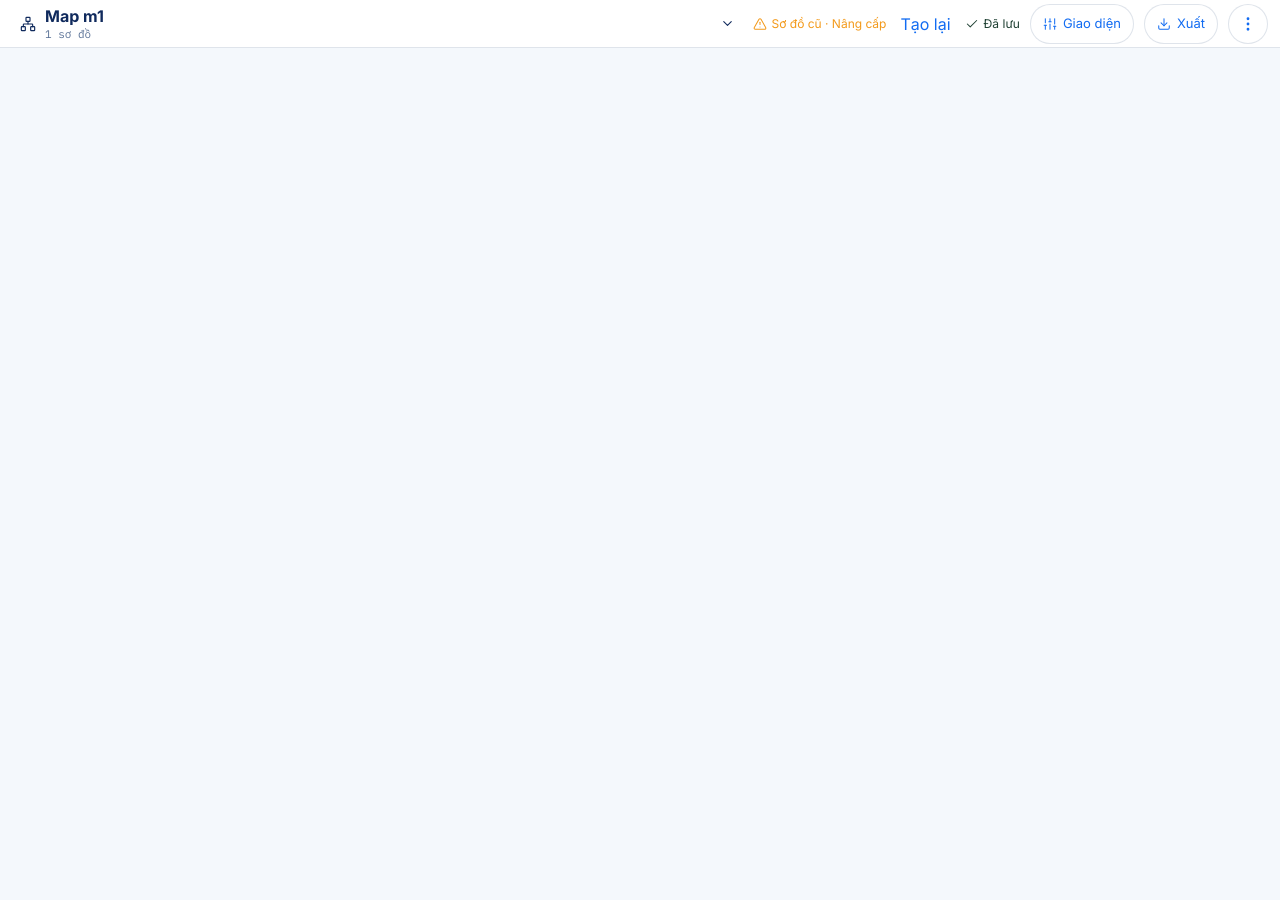
Export Studio — PDF orientation control reflects the real auto-orientation contract › switching map -> outline -> map never loses the orientation value chosen while in outline mode
Click the button with aria-label "Xuất sơ đồ": click(1181, 24) [1144,4,1218,44]
(page scrolled)
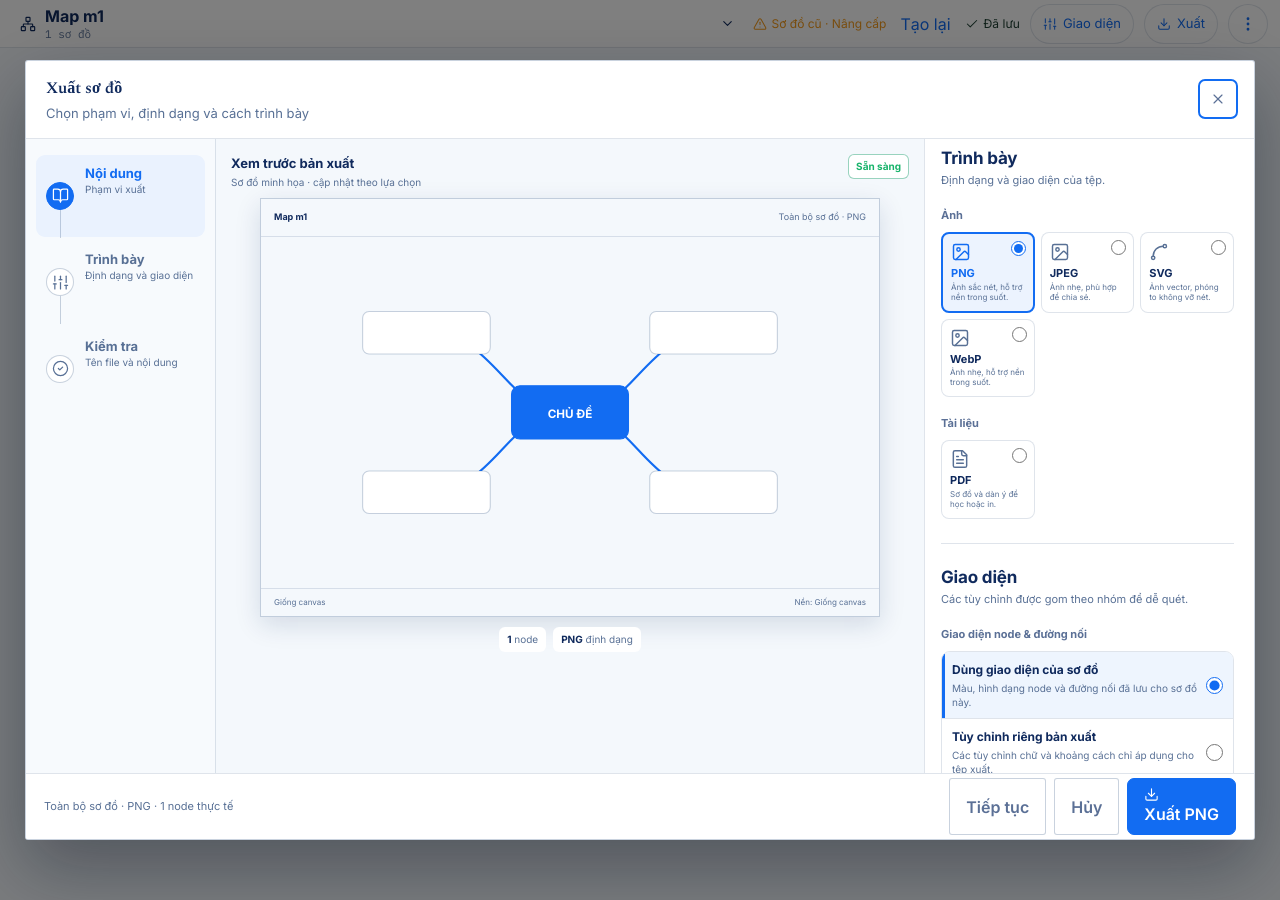
Click the radio button named "mm-export-format": click(1019, 456) [1012,448,1027,463]
(page scrolled)
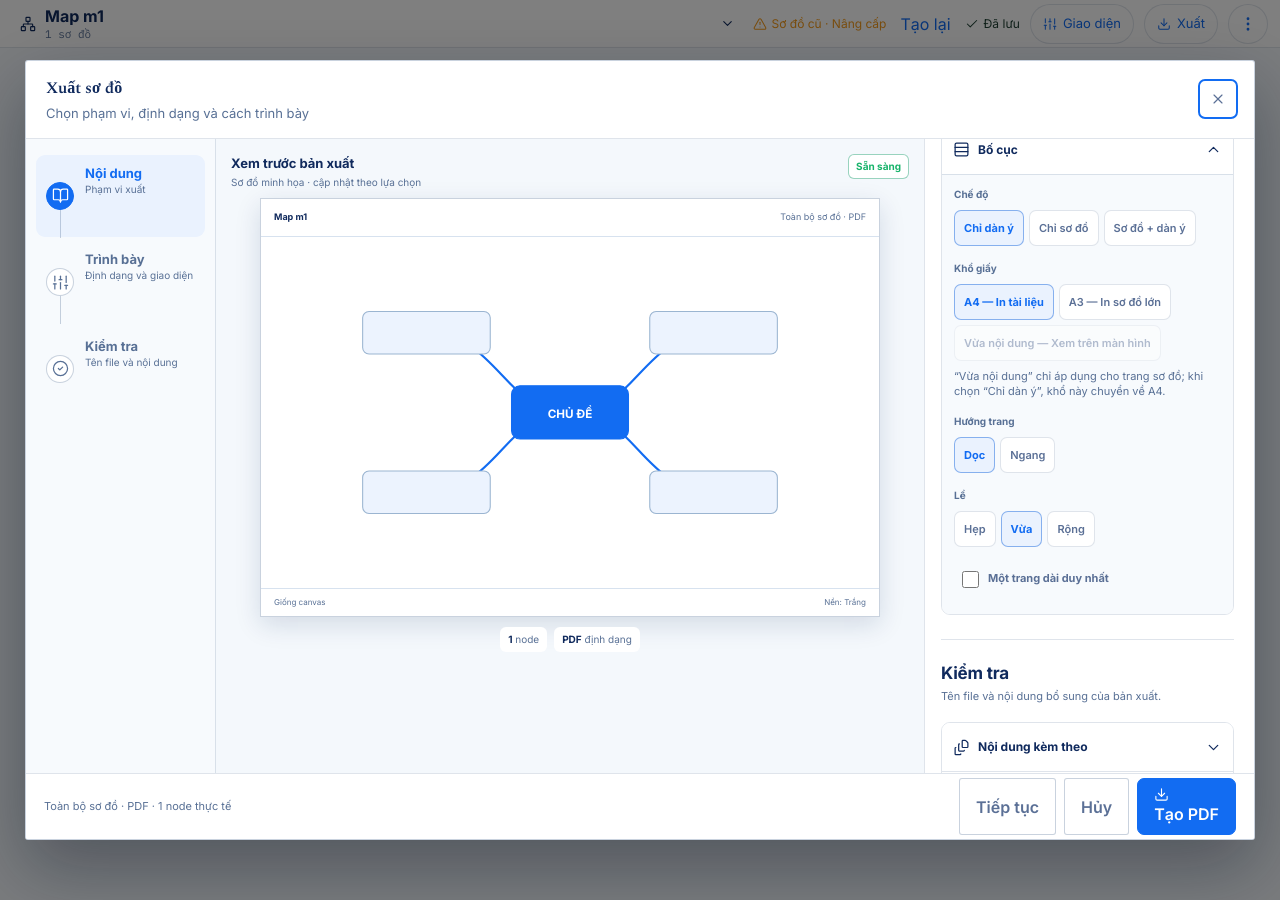
expect the button "Ngang" is shown: met
Click the button "Ngang": click(1028, 455) [1000,437,1055,473]
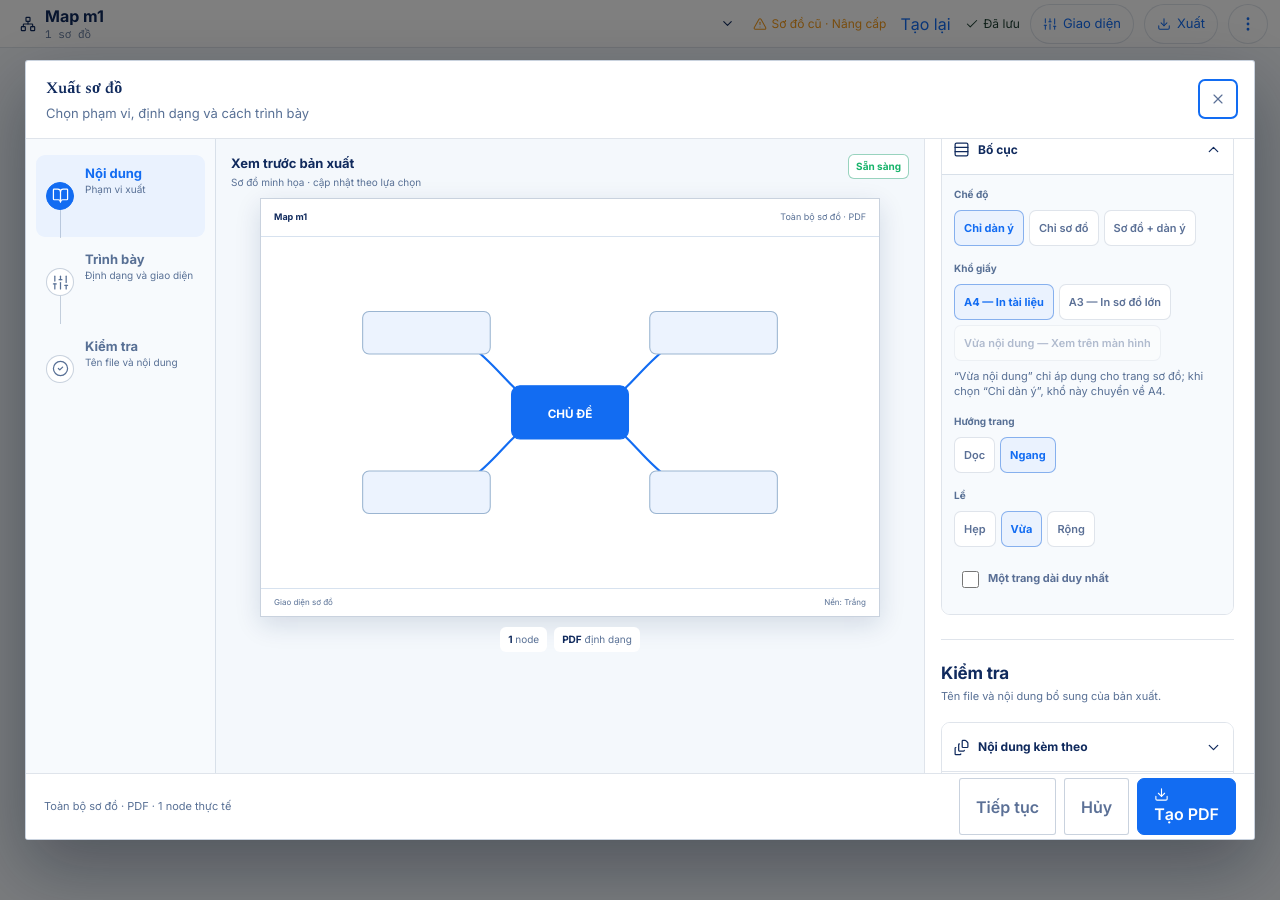
expect the button "Ngang" is shown: met, box [1000,437,1056,473]
expect the button "Chỉ sơ đồ" is shown: met
Click the button "Chỉ sơ đồ": click(1064, 228) [1029,210,1098,246]
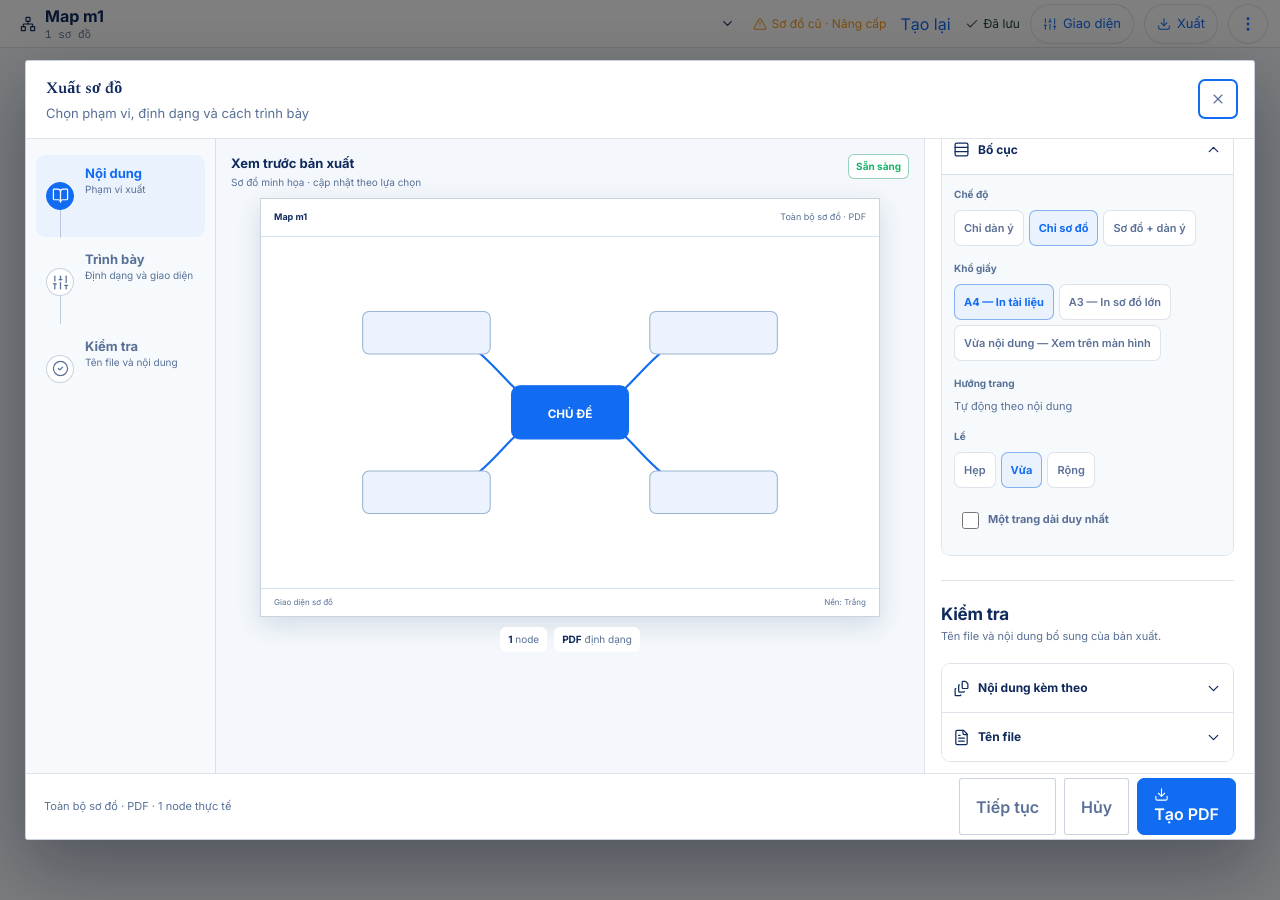
expect the button "Chỉ dàn ý" is shown: met
expect the element with class "export-control__label" shows "Tự động theo nội dung": met, box [954,399,1072,413]
Click the button "Chỉ dàn ý": click(989, 228) [954,210,1024,246]
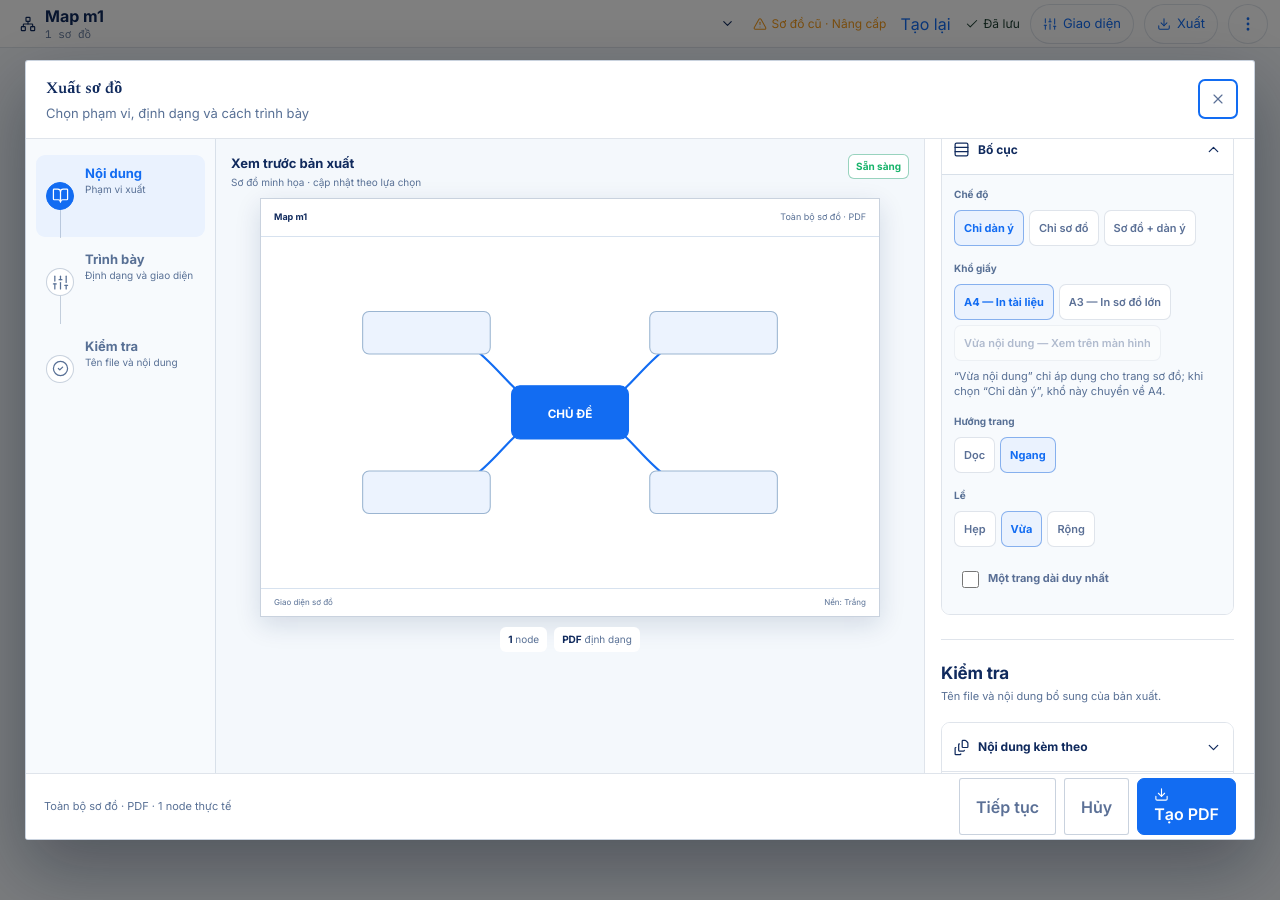
expect the button "Ngang" is shown: met, box [1000,437,1056,473]
